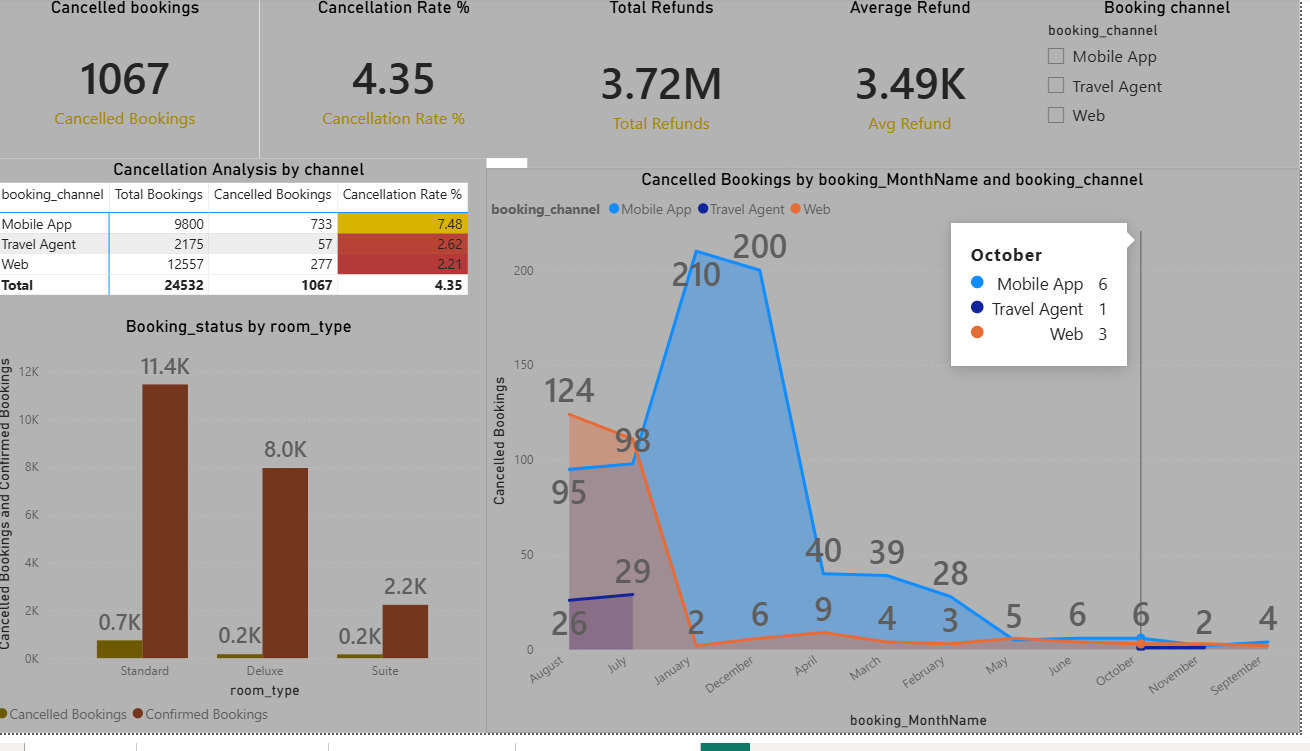

Layout of this report page (visuals, bound fields, positions):
{"tool":"powerbi","page":{"name":"Cancellation analysis","canvas":[1280,720],"ordinal":1},"visuals":[{"type":"card","title":"Cancelled bookings","fields":{"Values":["_Measures.Cancelled Bookings"]},"box":[0,0,262.6,157.3],"z":0},{"type":"card","title":"Cancellation Rate %","fields":{"Values":["_Measures.Cancellation Rate %"]},"box":[262.6,0,262.6,157.3],"z":1000},{"type":"card","title":"Total Refunds","fields":{"Values":["_Measures.Total Refunds"]},"box":[525.2,0,262.6,167.4],"z":2000},{"type":"card","title":"Average Refund","fields":{"Values":["_Measures.Avg Refund"]},"box":[776.2,0,245.3,167.4],"z":3000},{"type":"pivotTable","title":"Cancellation Analysis by  channel","fields":{"Rows":["Hotels Booking.booking_channel"],"Values":["_Measures.Total Bookings","_Measures.Cancelled Bookings","_Measures.Cancellation Rate %"]},"box":[0,157.3,484.8,154.4],"z":4000},{"type":"clusteredColumnChart","title":"Booking_status by room_type","fields":{"Category":["Hotels Booking.room_type"],"Y":["_Measures.Cancelled Bookings","_Measures.Confirmed Bookings"]},"box":[0,311.6,484.8,408.3],"z":5000},{"type":"areaChart","fields":{"Category":["Hotels Booking.booking_MonthName"],"Y":["_Measures.Cancelled Bookings"],"Series":["Hotels Booking.booking_channel"]},"box":[484.8,167.4,795,552.6],"z":6000},{"type":"slicer","title":"Booking channel","fields":{"Values":["Hotels Booking.booking_channel"]},"box":[1021,0,259,167],"z":7000}]}

Visuals, with their boxes in screenshot pixels (x1, y1, x2, y2), scaled from the page's 1280x720 canvas onto the 1310x751 screenshot:
"Cancelled bookings" card: (0,0,269,164)
"Cancellation Rate %" card: (269,0,538,164)
"Total Refunds" card: (538,0,806,175)
"Average Refund" card: (794,0,1045,175)
"Cancellation Analysis by  channel" pivotTable: (0,164,496,325)
"Booking_status by room_type" clusteredColumnChart: (0,325,496,750)
areaChart - Hotels Booking.booking_MonthName x _Measures.Cancelled Bookings: (496,175,1309,750)
"Booking channel" slicer: (1045,0,1309,174)
